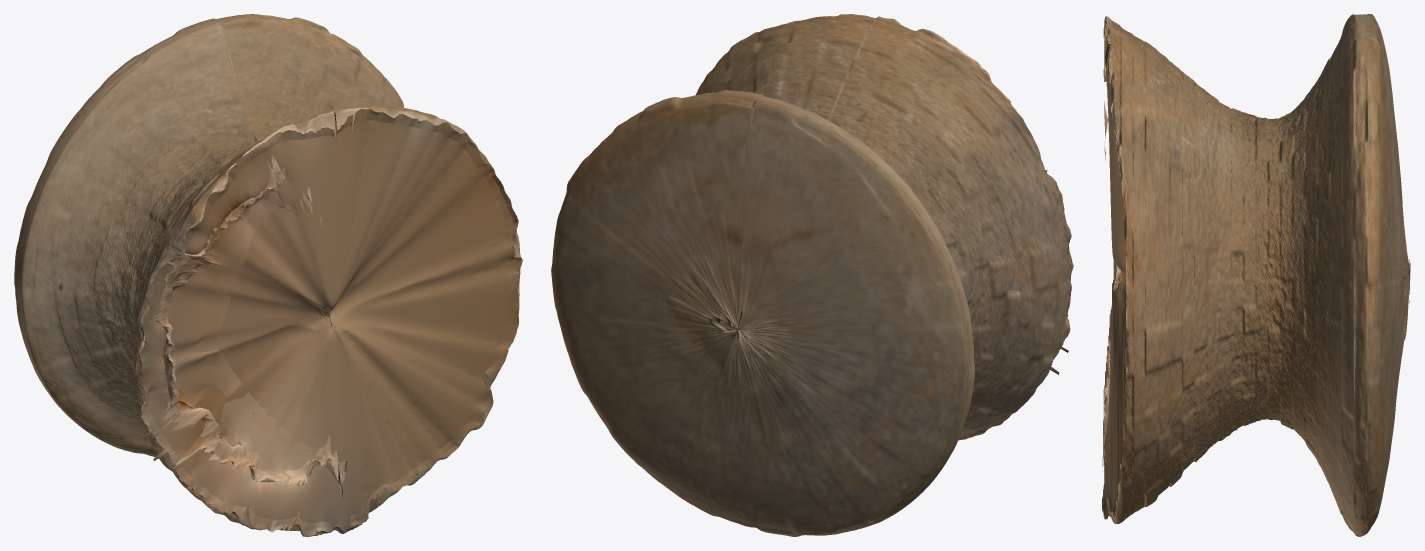
The model's file is mesh_inpaint.glb.
3 renders of one model, left to right at view 1: azimuth 30°, elevation 25°; view 2: azimuth 150°, elevation 25°; view 3: azimuth 270°, elevation 25°, orthographic. The views are drawn at different scales.
Parts seen in each view (by area): view 1: fill, ipn; view 2: ipn; view 3: ipn, fill.
Part boxes in pixels (x1=…): fill: x1=139, y1=109, x2=522, y2=536; ipn: x1=14, y1=14, x2=521, y2=536; ipn: x1=551, y1=14, x2=1073, y2=536; ipn: x1=1103, y1=14, x2=1409, y2=536; fill: x1=1102, y1=19, x2=1410, y2=519.
Size of the model in its own units: 1.98 by 2 by 1.18.
Materials: 2 (1 with a texture image).
